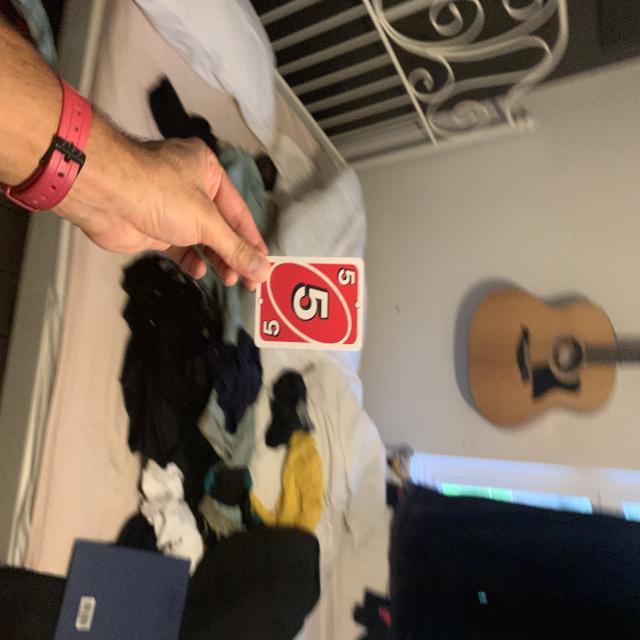lred-0: (334, 266, 360, 289)
